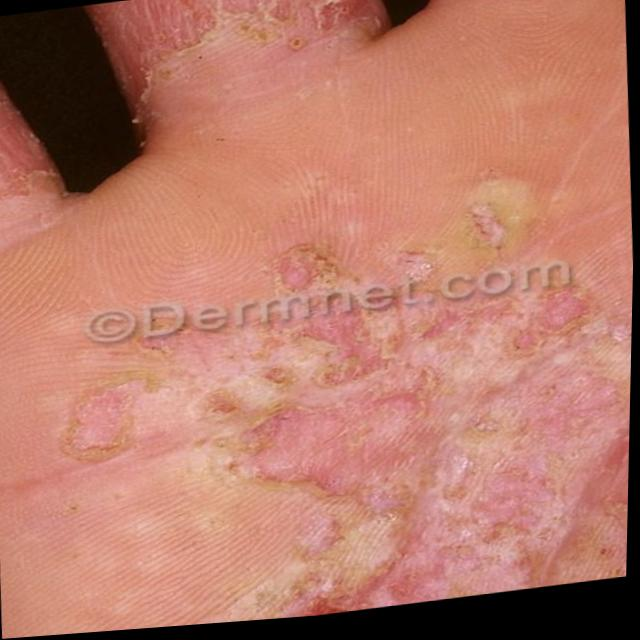Eczema: (56, 180, 635, 635)
